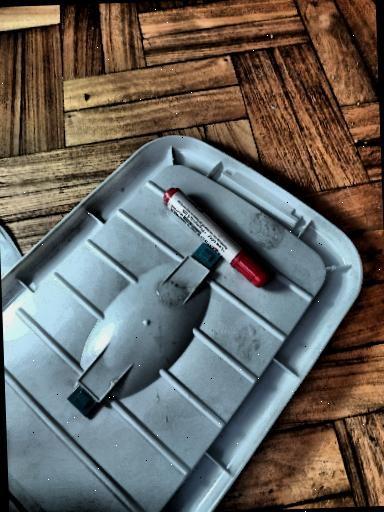marcador rojo: (163, 187, 269, 287)
